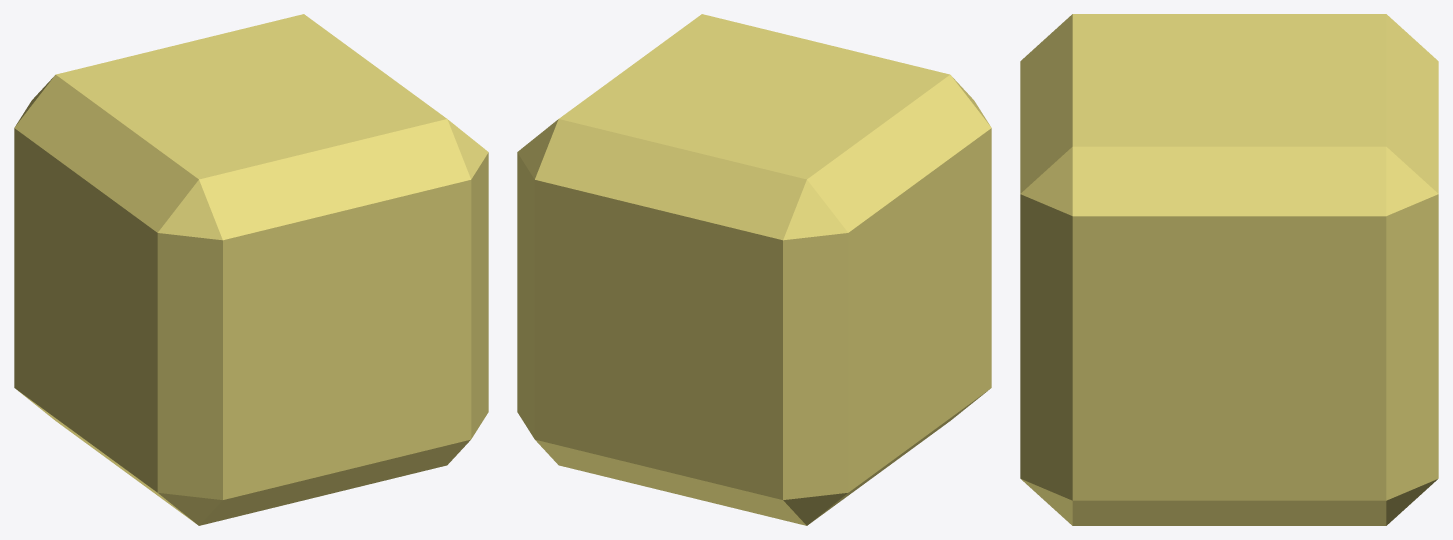
File: Gold.fbx
3 views of the same model, side by side, from view 1: azimuth 30°, elevation 25°; view 2: azimuth 150°, elevation 25°; view 3: azimuth 270°, elevation 25° (orthographic). The views are drawn at different scales.
Visible parts, largest first — view 1: Gold; view 2: Gold; view 3: Gold.
Part boxes in pixels (x1,y1,x2,y2): Gold: [14, 14, 488, 525]; Gold: [517, 14, 991, 525]; Gold: [1020, 14, 1438, 525].
Size of the model in its own units: 200 by 200 by 200.
